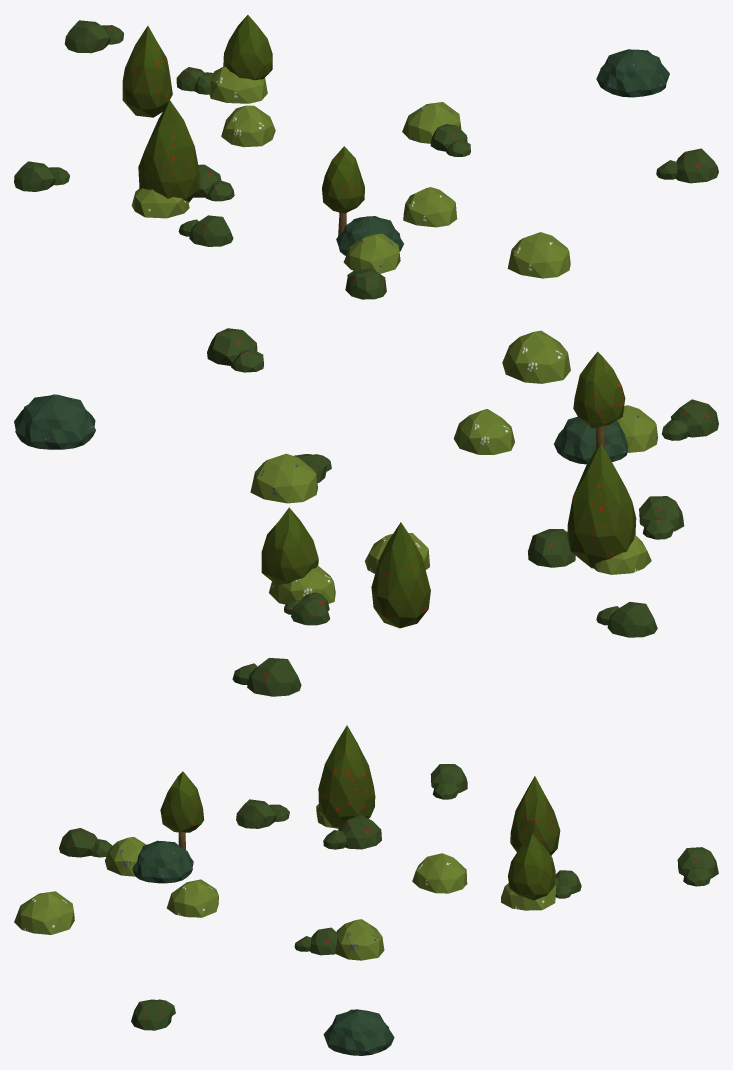
Rendered from Bushes11.gltf.
3 renders of one model, top to bottom at view 1: azimuth 30°, elevation 25°; view 2: azimuth 150°, elevation 25°; view 3: azimuth 270°, elevation 25°, orthographic. The views are drawn at different scales.
Parts seen in each view (by area): view 1: Hollytree3 - copy.015, Hollytree3 - copy.010, JuniperBush1 - copy.026, Hollytree2 - copy.016, ElderberryBush1 - copy.023, Hollytree1 - copy.012, ElderberryBush1 - copy.002, ElderberryBush1 - copy.013, ElderberryBush2 - copy.021, ElderberryBush1 - copy.018, StrawberryBush2 - copy.017, ElderberryBush2 - copy.018 (+9 smaller); view 2: Hollytree3 - copy.015, Hollytree3 - copy.010, JuniperBush1 - copy.026, Hollytree2 - copy.016, Hollytree1 - copy.012, ElderberryBush1 - copy.023, ElderberryBush2 - copy.018, JuniperBush1 - copy.017, ElderberryBush1 - copy.013, StrawberryBush2 - copy.008, StrawberryBush2 - copy.017, StrawberryBush2 - copy.010 (+8 smaller); view 3: Hollytree3 - copy.015, JuniperBush1 - copy.026, Hollytree3 - copy.010, Hollytree2 - copy.016, JuniperBush1 - copy.017, ElderberryBush1 - copy.023, Hollytree1 - copy.012, ElderberryBush1 - copy.002, ElderberryBush2 - copy.018, ElderberryBush1 - copy.013, StrawberryBush2 - copy.006, StrawberryBush2 - copy.008 (+8 smaller).
Boxes of the visible parts, x1=… form: Hollytree3 - copy.015: x1=138, y1=100, x2=199, y2=202; Hollytree3 - copy.010: x1=122, y1=26, x2=172, y2=117; JuniperBush1 - copy.026: x1=596, y1=49, x2=669, y2=97; Hollytree2 - copy.016: x1=223, y1=15, x2=272, y2=80; ElderberryBush1 - copy.023: x1=507, y1=232, x2=570, y2=278; Hollytree1 - copy.012: x1=322, y1=146, x2=364, y2=236; ElderberryBush1 - copy.002: x1=221, y1=105, x2=275, y2=147; ElderberryBush1 - copy.013: x1=403, y1=187, x2=457, y2=227; ElderberryBush2 - copy.021: x1=343, y1=233, x2=400, y2=273; ElderberryBush1 - copy.018: x1=209, y1=66, x2=267, y2=103; StrawberryBush2 - copy.017: x1=656, y1=148, x2=718, y2=183; ElderberryBush2 - copy.018: x1=402, y1=102, x2=461, y2=143; Hollytree3 - copy.015: x1=567, y1=443, x2=636, y2=568; Hollytree3 - copy.010: x1=371, y1=522, x2=430, y2=628; JuniperBush1 - copy.026: x1=14, y1=394, x2=95, y2=449; Hollytree2 - copy.016: x1=261, y1=507, x2=318, y2=585; Hollytree1 - copy.012: x1=573, y1=351, x2=625, y2=449; ElderberryBush1 - copy.023: x1=502, y1=330, x2=570, y2=383; ElderberryBush2 - copy.018: x1=250, y1=453, x2=317, y2=503; JuniperBush1 - copy.017: x1=554, y1=416, x2=628, y2=464; ElderberryBush1 - copy.013: x1=453, y1=409, x2=514, y2=454; StrawberryBush2 - copy.008: x1=232, y1=658, x2=301, y2=696; StrawberryBush2 - copy.017: x1=207, y1=328, x2=263, y2=372; StrawberryBush2 - copy.010: x1=662, y1=399, x2=718, y2=440; Hollytree3 - copy.015: x1=318, y1=725, x2=375, y2=827; JuniperBush1 - copy.026: x1=323, y1=1009, x2=394, y2=1055; Hollytree3 - copy.010: x1=510, y1=776, x2=560, y2=855; Hollytree2 - copy.016: x1=508, y1=834, x2=555, y2=900; JuniperBush1 - copy.017: x1=132, y1=840, x2=193, y2=883; ElderberryBush1 - copy.023: x1=14, y1=891, x2=74, y2=934; Hollytree1 - copy.012: x1=160, y1=771, x2=203, y2=849; ElderberryBush1 - copy.002: x1=412, y1=853, x2=467, y2=893; ElderberryBush2 - copy.018: x1=335, y1=919, x2=384, y2=960; ElderberryBush1 - copy.013: x1=166, y1=879, x2=218, y2=917; StrawberryBush2 - copy.006: x1=323, y1=814, x2=381, y2=849; StrawberryBush2 - copy.008: x1=677, y1=847, x2=718, y2=886.
Bounding box in the file's own units: 25.04 × 4.16 × 26.56.
9 materials, 9 textured.
